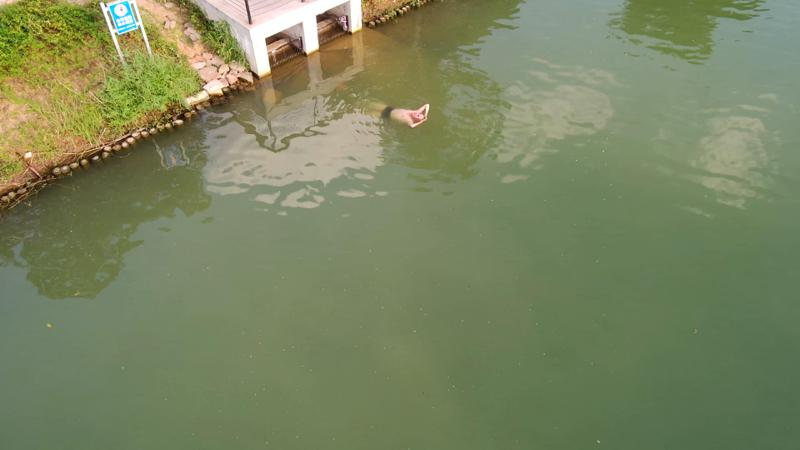swimmers: (365, 100, 430, 129)
